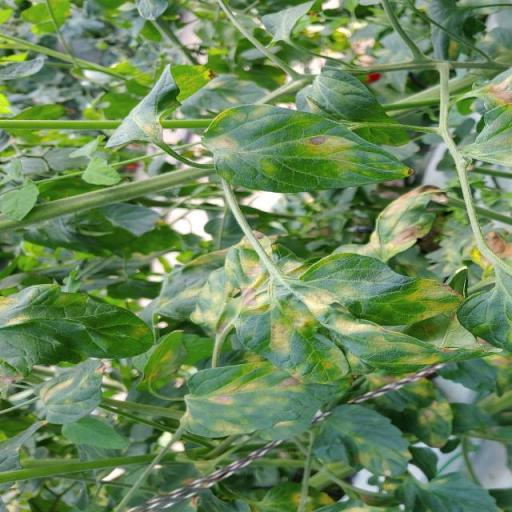disease_tomato: (238, 253, 466, 391), (204, 104, 414, 192), (179, 361, 353, 439), (190, 229, 302, 334), (314, 405, 414, 479), (370, 378, 456, 450), (28, 361, 104, 425)
